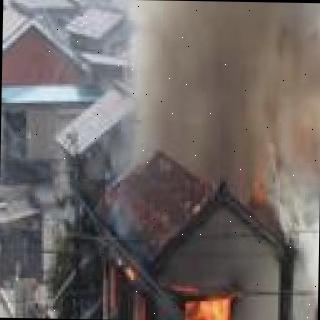fire: (88, 237, 300, 320)
